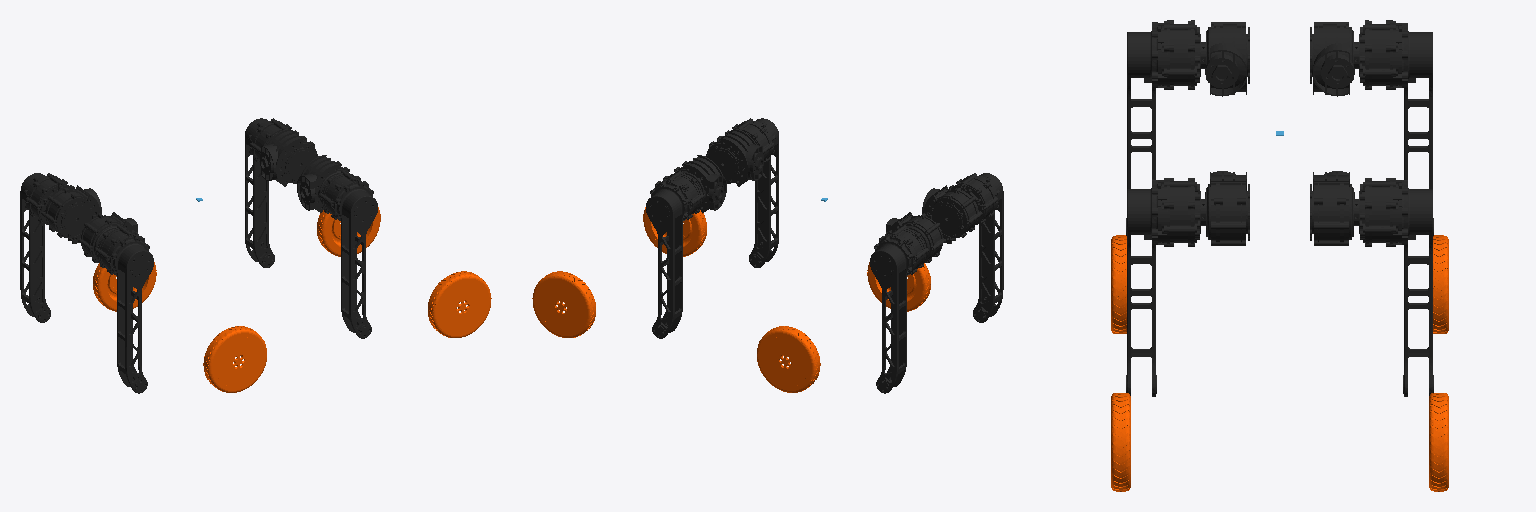
URDF robot description (robot):
<?xml version="1.0" ?>
<!-- =================================================================================== -->
<!-- |    This document was autogenerated by xacro from robot.xacro                    | -->
<!-- |    EDITING THIS FILE BY HAND IS NOT RECOMMENDED                                 | -->
<!-- =================================================================================== -->
<robot name="robot">
  <material name="black">
    <color rgba="0.0 0.0 0.0 1.0"/>
  </material>
  <material name="blue">
    <color rgba="0.0 0.0 0.8 1.0"/>
  </material>
  <material name="green">
    <color rgba="0.0 0.8 0.0 1.0"/>
  </material>
  <material name="grey">
    <color rgba="0.2 0.2 0.2 1.0"/>
  </material>
  <material name="silver">
    <color rgba="0.9137254901960784 0.9137254901960784 0.8470588235294118 1.0"/>
  </material>
  <material name="orange">
    <color rgba="1.0 0.4235294117647059 0.0392156862745098 1.0"/>
  </material>
  <material name="brown">
    <color rgba="0.8705882352941177 0.8117647058823529 0.7647058823529411 1.0"/>
  </material>
  <material name="red">
    <color rgba="0.8 0.0 0.0 1.0"/>
  </material>
  <material name="white">
    <color rgba="1.0 1.0 1.0 1.0"/>
  </material>
  <material name="body">
    <color rgba="0.73 0.73 0.73 1.0"/>
  </material>
  <material name="lidar">
    <color rgba="0.25 0.7 1 1.0"/>
  </material>
  <link name="base">
    <visual>
      <origin rpy="0 0 0" xyz="0 0 0"/>
      <geometry>
        <mesh filename="../meshes/trunk.STL" scale="1 1 1"/>
      </geometry>
      <material name="body"/>
    </visual>
    <collision>
      <origin rpy="0 0 0" xyz="0 0 0"/>
      <geometry>
        <box size="0.423 0.404 0.252"/>
      </geometry>
    </collision>
    <inertial>
      <origin rpy="0 0 0" xyz="-0.00334 -0.00038 0.0139"/>
      <mass value="44.6"/>
      <inertia ixx="0.7333" ixy="0.00445" ixz="-0.026" iyy="1.45752" iyz="0.0006" izz="1.807"/>
    </inertial>
  </link>
  <!-- Imu is fixed to the base link -->
  <joint name="robot_imu_joint" type="fixed">
    <origin rpy="0. 0. 0." xyz="0. 0. 0."/>
    <parent link="base"/>
    <child link="robot_imu"/>
  </joint>
  <!-- Imu link -->
  <link name="robot_imu">
    <inertial>
      <mass value="0.01"/>
      <origin rpy="0 0 0" xyz="0 0 0"/>
      <inertia ixx="0.000001" ixy="0" ixz="0" iyy="0.000001" iyz="0" izz="0.000001"/>
    </inertial>
    <visual>
      <origin rpy="0 0 0" xyz="0 0 0"/>
      <geometry>
        <box size="0.015 0.015 0.004"/>
      </geometry>
    </visual>
    <material name="orange">
      <color rgba="255 108 10 255"/>
    </material>
  </link>

  <joint name="FR_hip_joint" type="revolute">
    <origin rpy="0 0 0" xyz="0.289 -0.1175 0.0005"/>
    <parent link="base"/>
    <child link="FR_hip"/>
    <axis xyz="1 0 0"/>
    <dynamics damping="0" friction="0"/>
    <limit effort="320" lower="-0.87" upper="0.87" velocity="23"/>
  </joint>
  <link name="FR_hip">
    <visual>
      <geometry>
        <mesh filename="../meshes/hip_mirror.STL" scale="1 1 1"/>
      </geometry>
      <material name="grey"/>
    </visual>
    <inertial>
      <origin rpy="0 0 0" xyz="0.0666 0.0083 0.0042"/>
      <mass value="3.8"/>
      <inertia ixx="0.00896" ixy="0.00208" ixz="0.00096" iyy="0.03066" iyz="0.000202" izz="0.02798"/>
    </inertial>
  </link>
  <joint name="FR_thigh_joint" type="revolute">
    <origin rpy="0 0 0" xyz="0.088 -0.16763 0"/>
    <parent link="FR_hip"/>
    <child link="FR_thigh"/>
    <axis xyz="0 1 0"/>
    <dynamics damping="0" friction="0"/>
    <limit effort="320" lower="-1.64" upper="4.69" velocity="23"/>
  </joint>
  <link name="FR_thigh">
    <visual>
      <origin rpy="0 0 0" xyz="0 0 0"/>
      <geometry>
        <mesh filename="../meshes/thigh_mirror.STL" scale="1 1 1"/>
      </geometry>
      <material name="grey"/>
    </visual>
    <collision>
      <origin rpy="0 1.5707963267948966 0" xyz="-0.01 0 -0.193"/>
      <geometry>
        <box size="0.336 0.06 0.08"/>
      </geometry>
    </collision>
    <inertial>
      <origin rpy="0 0 0" xyz="-0.002 0.064 -0.0263"/>
      <mass value="4.66"/>
      <inertia ixx="0.06668" ixy="0" ixz="0.00197" iyy="0.0463" iyz="-0.00057" izz="0.03168"/>
    </inertial>
  </link>
  <joint name="FR_calf_joint" type="revolute">
    <origin rpy="0 0 0" xyz="0 0.004 -0.386"/>
    <parent link="FR_thigh"/>
    <child link="FR_calf"/>
    <axis xyz="0 1 0"/>
    <dynamics damping="0" friction="0"/>
    <limit effort="320" lower="-2.82" upper="-0.43" velocity="14"/>
  </joint>
  <link name="FR_calf">
    <visual>
      <origin rpy="0 0 0" xyz="0 0 0"/>
      <geometry>
        <mesh filename="../meshes/calf.STL" scale="1 1 1"/>
      </geometry>
      <material name="grey"/>
    </visual>
    <collision>
      <origin rpy="0 1.5707963267948966 0" xyz="0 0 -0.15613"/>
      <geometry>
        <box size="0.26226 0.010000000000000002 0.05"/>
      </geometry>
    </collision>
    <inertial>
      <origin rpy="0 0 0" xyz="0.00434 0.00778 -0.2466"/>
      <mass value="3.54"/>
      <inertia ixx="0.2887" ixy="0" ixz="-0.00393" iyy="0.2885" iyz="-0.00946" izz="0.00516"/>
    </inertial>
  </link>
  <joint name="FR_foot_joint" type="revolute">
    <origin rpy="0 0 0" xyz="0 -0.04163 -0.31226"/>
    <parent link="FR_calf"/>
    <child link="FR_foot"/>
    <axis xyz="0 1 0"/>
    <dynamics damping="0" friction="0"/>
    <limit effort="50" lower="-99999" upper="99999" velocity="10"/>
  </joint>
  <link name="FR_foot">
    <visual>
      <origin rpy="0 0 0" xyz="0 0 0"/>
      <geometry>
        <mesh filename="../meshes/wheel_mirror.STL" scale="1 1 1"/>
      </geometry>
      <material name="orange"/>
    </visual>
    <collision>
      <origin rpy="1.5707963267948966 0 0" xyz="0 0 0"/>
      <geometry>
        <cylinder length="0.04" radius="0.1005"/>
      </geometry>
    </collision>
    <inertial>
      <origin rpy="0 0 0" xyz="0.0 0.00298 0.0"/>
      <mass value="1"/>
      <inertia ixx="0.0033" ixy="0.0" ixz="0.0" iyy="0.0063" iyz="0.0" izz="0.0033"/>
    </inertial>
  </link>

  <joint name="FL_hip_joint" type="revolute">
    <origin rpy="0 0 0" xyz="0.289 0.1175 0.0005"/>
    <parent link="base"/>
    <child link="FL_hip"/>
    <axis xyz="1 0 0"/>
    <dynamics damping="0" friction="0"/>
    <limit effort="320" lower="-0.87" upper="0.87" velocity="23"/>
  </joint>
  <link name="FL_hip">
    <visual>
      <origin rpy="0 0 0" xyz="0 0 0"/>
      <geometry>
        <mesh filename="../meshes/hip.STL" scale="1 1 1"/>
      </geometry>
      <material name="grey"/>
    </visual>
    <inertial>
      <origin rpy="0 0 0" xyz="0.0666 -0.0083 0.0042"/>
      <mass value="3.8"/>
      <inertia ixx="0.00896" ixy="-0.00208" ixz="0.00096" iyy="0.03066" iyz="-0.000202" izz="0.02798"/>
    </inertial>
  </link>
  <joint name="FL_thigh_joint" type="revolute">
    <origin rpy="0 0 0" xyz="0.088 0.16763 0"/>
    <parent link="FL_hip"/>
    <child link="FL_thigh"/>
    <axis xyz="0 1 0"/>
    <dynamics damping="0" friction="0"/>
    <limit effort="320" lower="-1.64" upper="4.69" velocity="23"/>
  </joint>
  <link name="FL_thigh">
    <visual>
      <origin rpy="0 0 0" xyz="0 0 0"/>
      <geometry>
        <mesh filename="../meshes/thigh.STL" scale="1 1 1"/>
      </geometry>
      <material name="grey"/>
    </visual>
    <collision>
      <origin rpy="0 1.5707963267948966 0" xyz="-0.01 0 -0.193"/>
      <geometry>
        <box size="0.336 0.06 0.08"/>
      </geometry>
    </collision>
    <inertial>
      <origin rpy="0 0 0" xyz="-0.002 -0.064 -0.0263"/>
      <mass value="4.66"/>
      <inertia ixx="0.06668" ixy="0" ixz="0.00197" iyy="0.0463" iyz="0.00057" izz="0.03168"/>
    </inertial>
  </link>
  <joint name="FL_calf_joint" type="revolute">
    <origin rpy="0 0 0" xyz="0 -0.004 -0.386"/>
    <parent link="FL_thigh"/>
    <child link="FL_calf"/>
    <axis xyz="0 1 0"/>
    <dynamics damping="0" friction="0"/>
    <limit effort="320" lower="-2.82" upper="-0.43" velocity="14"/>
  </joint>
  <link name="FL_calf">
    <visual>
      <origin rpy="0 0 0" xyz="0 0 0"/>
      <geometry>
        <mesh filename="../meshes/calf.STL" scale="1 1 1"/>
      </geometry>
      <material name="grey"/>
    </visual>
    <collision>
      <origin rpy="0 1.5707963267948966 0" xyz="0 0 -0.15613"/>
      <geometry>
        <box size="0.26226 0.010000000000000002 0.05"/>
      </geometry>
    </collision>
    <inertial>
      <origin rpy="0 0 0" xyz="0.00434 0.00778 -0.2466"/>
      <mass value="3.54"/>
      <inertia ixx="0.2887" ixy="0" ixz="-0.00393" iyy="0.2885" iyz="-0.00946" izz="0.00516"/>
    </inertial>
  </link>
  <joint name="FL_foot_joint" type="revolute">
    <origin rpy="0 0 0" xyz="0 0.04163 -0.31226"/>
    <parent link="FL_calf"/>
    <child link="FL_foot"/>
    <axis xyz="0 1 0"/>
    <dynamics damping="0" friction="0"/>
    <limit effort="50" lower="-99999" upper="99999" velocity="10"/>
  </joint>
  <link name="FL_foot">
    <visual>
      <origin rpy="0 0 0" xyz="0 0 0"/>
      <geometry>
        <mesh filename="../meshes/wheel.STL" scale="1 1 1"/>
      </geometry>
      <material name="orange"/>
    </visual>
    <collision>
      <origin rpy="1.5707963267948966 0 0" xyz="0 0 0"/>
      <geometry>
        <cylinder length="0.04" radius="0.1005"/>
      </geometry>
    </collision>
    <inertial>
      <origin rpy="0 0 0" xyz="0.0 0.00298 0.0"/>
      <mass value="1"/>
      <inertia ixx="0.0033" ixy="0.0" ixz="0.0" iyy="0.0063" iyz="0.0" izz="0.0033"/>
    </inertial>
  </link>

  <joint name="RR_hip_joint" type="revolute">
    <origin rpy="0 0 0" xyz="-0.289 -0.1175 0.0005"/>
    <parent link="base"/>
    <child link="RR_hip"/>
    <axis xyz="1 0 0"/>
    <dynamics damping="0" friction="0"/>
    <limit effort="320" lower="-0.87" upper="0.87" velocity="23"/>
  </joint>
  <link name="RR_hip">
    <visual>
      <origin rpy="0 3.141592653589793 0" xyz="0 0 0"/>
      <geometry>
        <mesh filename="../meshes/hip_mirror.STL" scale="1 1 1"/>
      </geometry>
      <material name="grey"/>
    </visual>
    <inertial>
      <origin rpy="0 0 0" xyz="-0.0666 0.0083 0.0042"/>
      <mass value="3.8"/>
      <inertia ixx="0.00896" ixy="-0.00208" ixz="-0.00096" iyy="0.03066" iyz="0.000202" izz="0.02798"/>
    </inertial>
  </link>
  <joint name="RR_thigh_joint" type="revolute">
    <origin rpy="0 0 0" xyz="-0.088 -0.16763 0"/>
    <parent link="RR_hip"/>
    <child link="RR_thigh"/>
    <axis xyz="0 1 0"/>
    <dynamics damping="0" friction="0"/>
    <limit effort="320" lower="-1.64" upper="4.69" velocity="23"/>
  </joint>
  <link name="RR_thigh">
    <visual>
      <origin rpy="0 0 0" xyz="0 0 0"/>
      <geometry>
        <mesh filename="../meshes/thigh_mirror.STL" scale="1 1 1"/>
      </geometry>
      <material name="grey"/>
    </visual>
    <collision>
      <origin rpy="0 1.5707963267948966 0" xyz="-0.01 0 -0.193"/>
      <geometry>
        <box size="0.336 0.06 0.08"/>
      </geometry>
    </collision>
    <inertial>
      <origin rpy="0 0 0" xyz="-0.002 0.064 -0.0263"/>
      <mass value="4.66"/>
      <inertia ixx="0.06668" ixy="0" ixz="0.00197" iyy="0.0463" iyz="-0.00057" izz="0.03168"/>
    </inertial>
  </link>
  <joint name="RR_calf_joint" type="revolute">
    <origin rpy="0 0 0" xyz="0 0.004 -0.386"/>
    <parent link="RR_thigh"/>
    <child link="RR_calf"/>
    <axis xyz="0 1 0"/>
    <dynamics damping="0" friction="0"/>
    <limit effort="320" lower="-2.82" upper="-0.43" velocity="14"/>
  </joint>
  <link name="RR_calf">
    <visual>
      <origin rpy="0 0 0" xyz="0 0 0"/>
      <geometry>
        <mesh filename="../meshes/calf.STL" scale="1 1 1"/>
      </geometry>
      <material name="grey"/>
    </visual>
    <collision>
      <origin rpy="0 1.5707963267948966 0" xyz="0 0 -0.15613"/>
      <geometry>
        <box size="0.26226 0.010000000000000002 0.05"/>
      </geometry>
    </collision>
    <inertial>
      <origin rpy="0 0 0" xyz="0.00434 0.00778 -0.2466"/>
      <mass value="3.54"/>
      <inertia ixx="0.2887" ixy="0" ixz="-0.00393" iyy="0.2885" iyz="-0.00946" izz="0.00516"/>
    </inertial>
  </link>
  <joint name="RR_foot_joint" type="revolute">
    <origin rpy="0 0 0" xyz="0 -0.04163 -0.31226"/>
    <parent link="RR_calf"/>
    <child link="RR_foot"/>
    <axis xyz="0 1 0"/>
    <dynamics damping="0" friction="0"/>
    <limit effort="50" lower="-99999" upper="99999" velocity="10"/>
  </joint>
  <link name="RR_foot">
    <visual>
      <origin rpy="0 0 0" xyz="0 0 0"/>
      <geometry>
        <mesh filename="../meshes/wheel_mirror.STL" scale="1 1 1"/>
      </geometry>
      <material name="orange"/>
    </visual>
    <collision>
      <origin rpy="1.5707963267948966 0 0" xyz="0 0 0"/>
      <geometry>
        <cylinder length="0.04" radius="0.1005"/>
      </geometry>
    </collision>
    <inertial>
      <origin rpy="0 0 0" xyz="0.0 0.00298 0.0"/>
      <mass value="1"/>
      <inertia ixx="0.0033" ixy="0.0" ixz="0.0" iyy="0.0063" iyz="0.0" izz="0.0033"/>
    </inertial>
  </link>

  <joint name="RL_hip_joint" type="revolute">
    <origin rpy="0 0 0" xyz="-0.289 0.1175 0.0005"/>
    <parent link="base"/>
    <child link="RL_hip"/>
    <axis xyz="1 0 0"/>
    <dynamics damping="0" friction="0"/>
    <limit effort="320" lower="-0.87" upper="0.87" velocity="23"/>
  </joint>
  <link name="RL_hip">
    <visual>
      <origin rpy="0 3.141592653589793 0" xyz="0 0 0"/>
      <geometry>
        <mesh filename="../meshes/hip.STL" scale="1 1 1"/>
      </geometry>
      <material name="grey"/>
    </visual>
    <inertial>
      <origin rpy="0 0 0" xyz="-0.0666 -0.0083 0.0042"/>
      <mass value="3.8"/>
      <inertia ixx="0.00896" ixy="0.00208" ixz="-0.00096" iyy="0.03066" iyz="-0.000202" izz="0.02798"/>
    </inertial>
  </link>
  <joint name="RL_thigh_joint" type="revolute">
    <origin rpy="0 0 0" xyz="-0.088 0.16763 0"/>
    <parent link="RL_hip"/>
    <child link="RL_thigh"/>
    <axis xyz="0 1 0"/>
    <dynamics damping="0" friction="0"/>
    <limit effort="320" lower="-1.64" upper="4.69" velocity="23"/>
  </joint>
  <link name="RL_thigh">
    <visual>
      <origin rpy="0 0 0" xyz="0 0 0"/>
      <geometry>
        <mesh filename="../meshes/thigh.STL" scale="1 1 1"/>
      </geometry>
      <material name="grey"/>
    </visual>
    <collision>
      <origin rpy="0 1.5707963267948966 0" xyz="-0.01 0 -0.193"/>
      <geometry>
        <box size="0.336 0.06 0.08"/>
      </geometry>
    </collision>
    <inertial>
      <origin rpy="0 0 0" xyz="-0.002 -0.064 -0.0263"/>
      <mass value="4.66"/>
      <inertia ixx="0.06668" ixy="0" ixz="0.00197" iyy="0.0463" iyz="0.00057" izz="0.03168"/>
    </inertial>
  </link>
  <joint name="RL_calf_joint" type="revolute">
    <origin rpy="0 0 0" xyz="0 -0.004 -0.386"/>
    <parent link="RL_thigh"/>
    <child link="RL_calf"/>
    <axis xyz="0 1 0"/>
    <dynamics damping="0" friction="0"/>
    <limit effort="320" lower="-2.82" upper="-0.43" velocity="14"/>
  </joint>
  <link name="RL_calf">
    <visual>
      <origin rpy="0 0 0" xyz="0 0 0"/>
      <geometry>
        <mesh filename="../meshes/calf.STL" scale="1 1 1"/>
      </geometry>
      <material name="grey"/>
    </visual>
    <collision>
      <origin rpy="0 1.5707963267948966 0" xyz="0 0 -0.15613"/>
      <geometry>
        <box size="0.26226 0.010000000000000002 0.05"/>
      </geometry>
    </collision>
    <inertial>
      <origin rpy="0 0 0" xyz="0.00434 0.00778 -0.2466"/>
      <mass value="3.54"/>
      <inertia ixx="0.2887" ixy="0" ixz="-0.00393" iyy="0.2885" iyz="-0.00946" izz="0.00516"/>
    </inertial>
  </link>
  <joint name="RL_foot_joint" type="revolute">
    <origin rpy="0 0 0" xyz="0 0.04163 -0.31226"/>
    <parent link="RL_calf"/>
    <child link="RL_foot"/>
    <axis xyz="0 1 0"/>
    <dynamics damping="0" friction="0"/>
    <limit effort="50" lower="-99999" upper="99999" velocity="10"/>
  </joint>
  <link name="RL_foot">
    <visual>
      <origin rpy="0 0 0" xyz="0 0 0"/>
      <geometry>
        <mesh filename="../meshes/wheel.STL" scale="1 1 1"/>
      </geometry>
      <material name="orange"/>
    </visual>
    <collision>
      <origin rpy="1.5707963267948966 0 0" xyz="0 0 0"/>
      <geometry>
        <cylinder length="0.04" radius="0.1005"/>
      </geometry>
    </collision>
    <inertial>
      <origin rpy="0 0 0" xyz="0.0 0.00298 0.0"/>
      <mass value="1"/>
      <inertia ixx="0.0033" ixy="0.0" ixz="0.0" iyy="0.0063" iyz="0.0" izz="0.0033"/>
    </inertial>
  </link>

</robot>

--- Render facts (derived) ---
3 views of the same robot in one strip: view 1: azimuth 30°, elevation 25°; view 2: azimuth 150°, elevation 25°; view 3: azimuth 270°, elevation 25° (orthographic).
Model robot with 18 links and 17 joints (16 revolute, 1 fixed), rooted at base, posed joints at zero except 4 at the middle of their limits (FR_calf_joint = -1.62, FL_calf_joint = -1.62, RR_calf_joint = -1.62, RL_calf_joint = -1.62).
Links seen in each view (by area): view 1: RR_thigh, FR_thigh, RL_thigh, RR_foot, FR_foot, FL_thigh, FL_hip, RL_hip, FR_hip, RR_hip, RL_foot, FL_foot; view 2: RL_thigh, FL_thigh, RR_thigh, RL_foot, FL_foot, FR_thigh, FR_hip, RR_hip, FL_hip, RL_hip, RR_foot, FR_foot; view 3: FR_thigh, FL_thigh, RR_thigh, RL_thigh, FR_hip, FL_hip, RR_hip, RL_hip, FR_foot, FL_foot, RR_foot, RL_foot.
Link boxes in pixels (x1,y1,x2,y2): RR_thigh: (95,225,153,393); FR_thigh: (319,170,377,338); RL_thigh: (20,173,74,322); RR_foot: (203,326,266,392); FR_foot: (428,271,491,337); FL_thigh: (245,118,298,267); FL_hip: (260,129,318,186); RL_hip: (42,185,101,243); FR_hip: (297,155,349,212); RR_hip: (78,212,138,262); RL_foot: (93,262,156,311); FL_foot: (317,207,380,256); RL_thigh: (870,225,928,393); FL_thigh: (646,170,704,338); RR_thigh: (949,173,1003,322); RL_foot: (757,326,820,392); FL_foot: (532,271,595,337); FR_thigh: (725,118,778,267); FR_hip: (705,129,763,186); RR_hip: (922,185,981,243); FL_hip: (674,155,726,212); RL_hip: (885,212,945,262); RR_foot: (867,262,930,311); FR_foot: (643,207,706,256); FR_thigh: (1126,178,1205,396); FL_thigh: (1354,178,1433,396); RR_thigh: (1126,20,1205,235); RL_thigh: (1354,20,1433,235); FR_hip: (1205,171,1249,245); FL_hip: (1310,171,1354,245); RR_hip: (1205,22,1249,96); RL_hip: (1310,22,1354,96); FR_foot: (1111,393,1130,491); FL_foot: (1429,393,1448,491); RR_foot: (1111,235,1126,333); RL_foot: (1433,235,1448,333).
Size in the robot's own frame: 1.24 by 0.6855 by 0.5506 metres.
12 mesh visuals loaded from 8 distinct referenced files (6 binary STL); not drawn: 5 (reference not matched to a file when rendering).